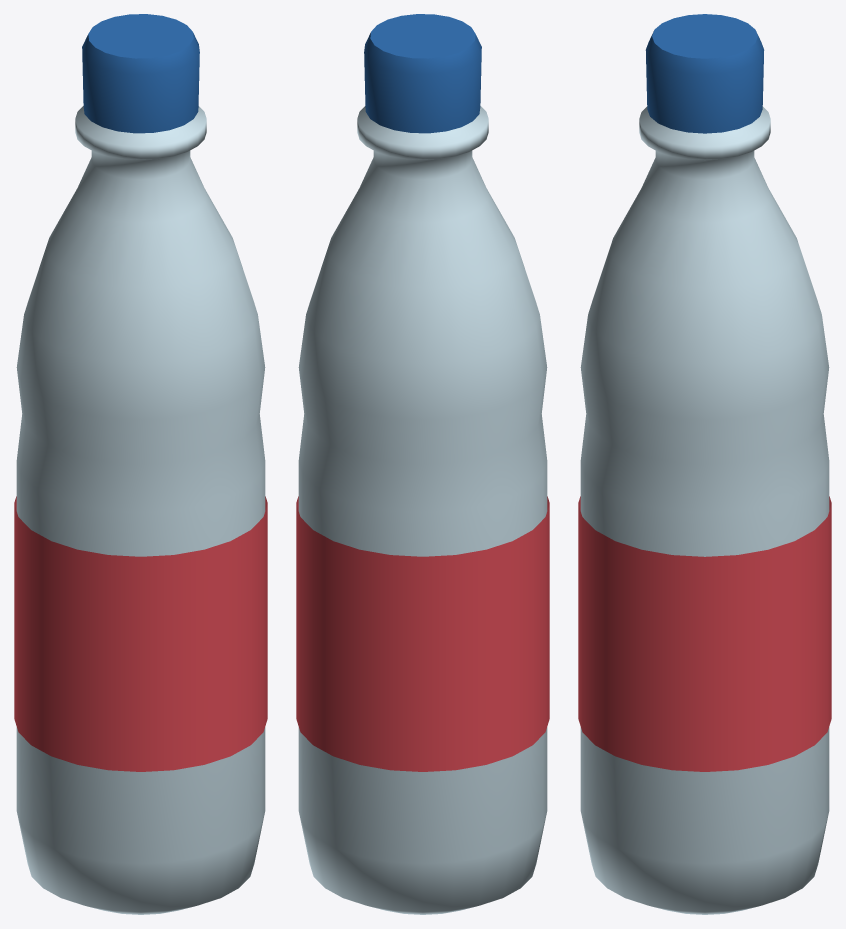
Rendered from item_pet_blue.fbx.
3 views of the same model, side by side, from view 1: azimuth 30°, elevation 25°; view 2: azimuth 150°, elevation 25°; view 3: azimuth 270°, elevation 25° (orthographic).
Parts seen in each view (by area): view 1: item_pet_blue; view 2: item_pet_blue; view 3: item_pet_blue.
Boxes of the visible parts, box(x1,y1,x2,y2) form: item_pet_blue: box(14, 14, 267, 914); item_pet_blue: box(296, 14, 549, 914); item_pet_blue: box(578, 14, 831, 914).
Size of the model in its own units: 0.0694 by 0.256 by 0.0694.
